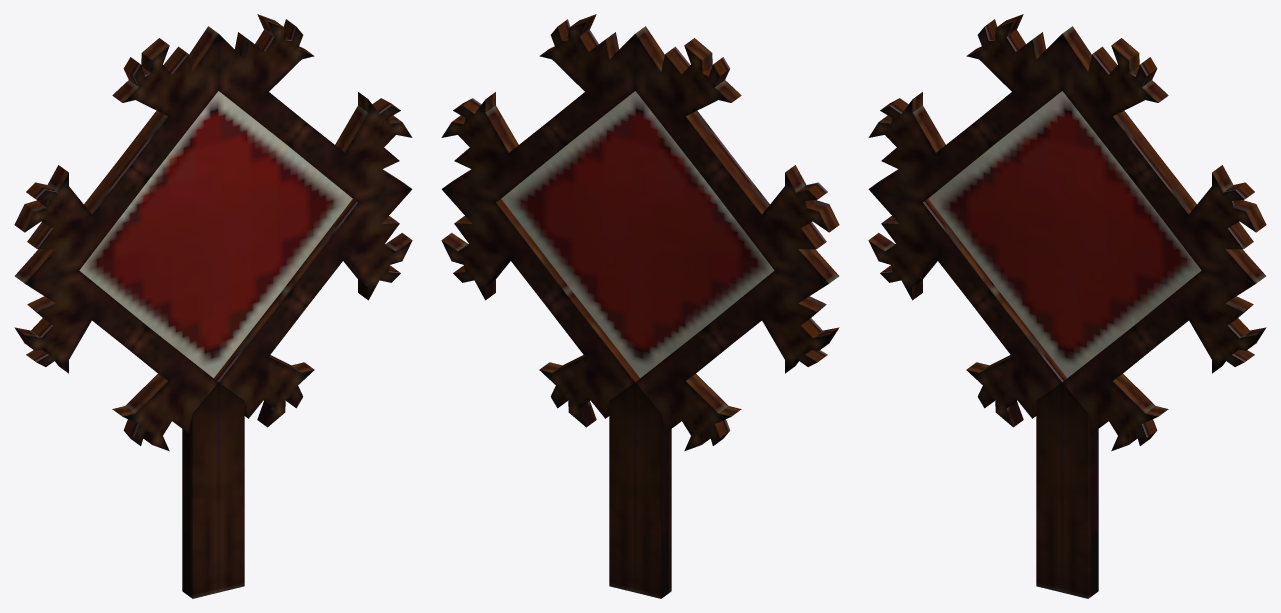
The model's file is ob-standganpan-06.glb.
3 renders of one model, left to right at view 1: azimuth 30°, elevation 25°; view 2: azimuth 150°, elevation 25°; view 3: azimuth 330°, elevation 25°, orthographic.
Visible parts, largest first — view 1: Object07; view 2: Object07; view 3: Object07.
Part boxes in pixels (x1=…): Object07: x1=14, y1=14, x2=412, y2=598; Object07: x1=441, y1=14, x2=839, y2=598; Object07: x1=868, y1=14, x2=1266, y2=598.
Bounding box in the file's own units: 2 × 2.76 × 0.0932.
1 material, 1 textured.
